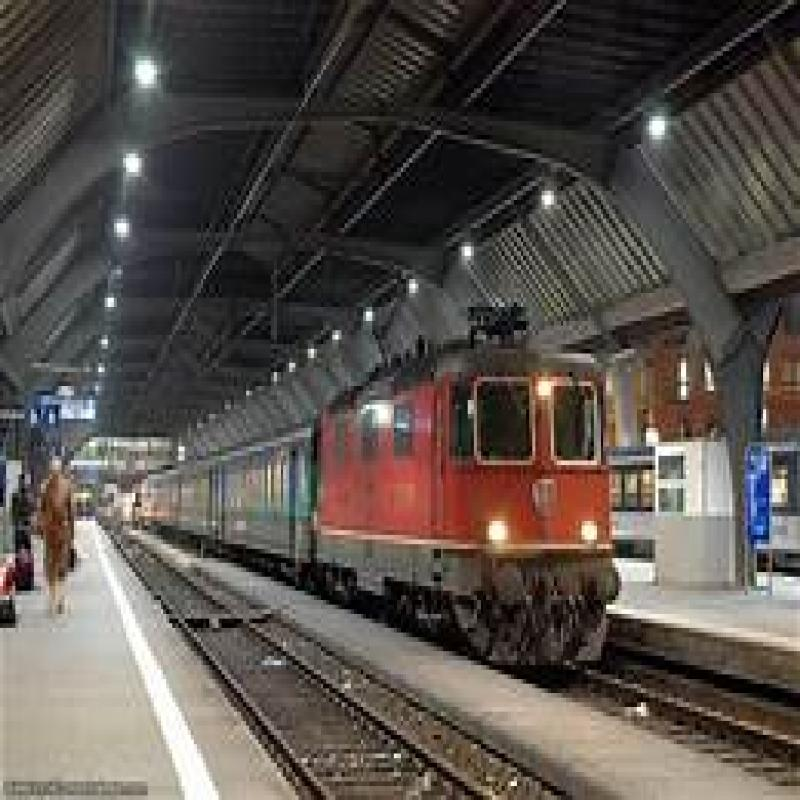train: (143, 355, 681, 648)
